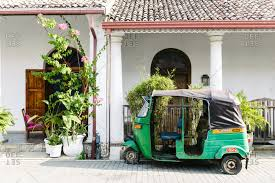tuk tuk: (121, 88, 254, 176)
